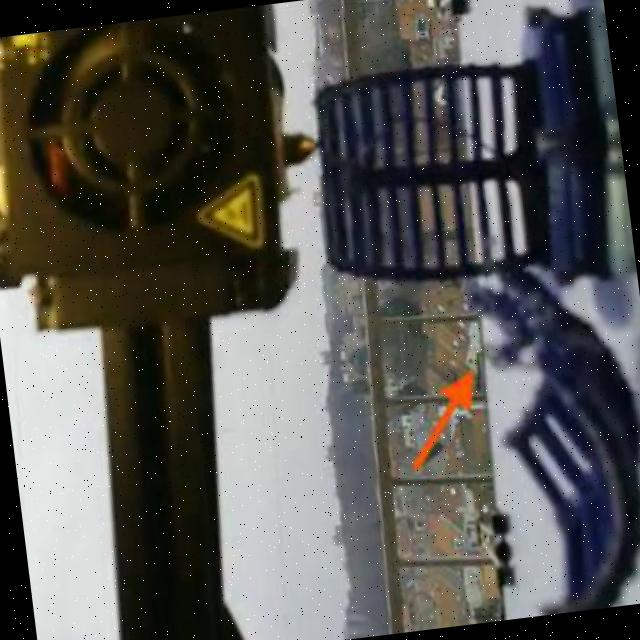spaghetti: (454, 252, 564, 375)
